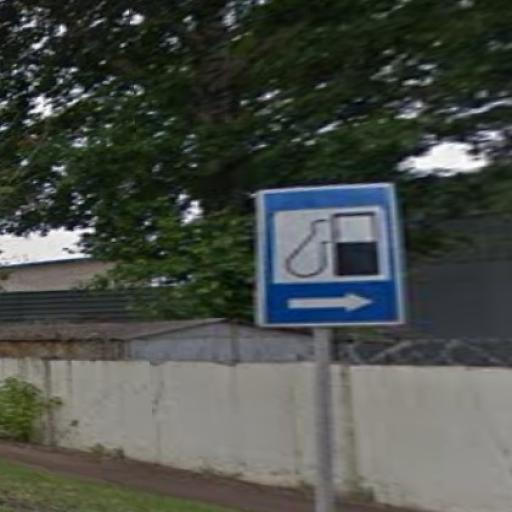traffic_sign: (247, 177, 412, 334)
